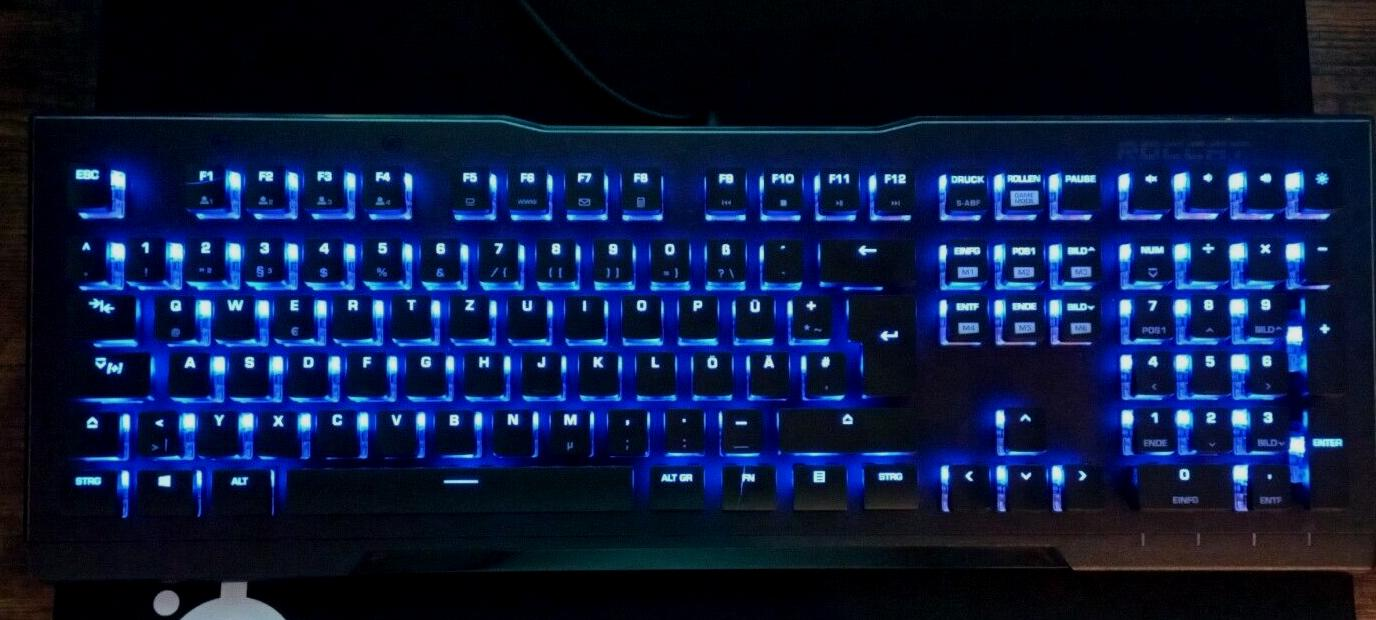0: (645, 233, 688, 280)
1: (121, 231, 164, 280)
2: (181, 233, 224, 280)
3: (239, 232, 285, 282)
4: (299, 232, 344, 280)
5: (358, 232, 404, 281)
6: (416, 231, 462, 281)
7: (474, 233, 518, 282)
8: (531, 233, 577, 283)
9: (588, 233, 632, 282)
a: (164, 345, 208, 395)
accent: (757, 234, 801, 281)
ae: (745, 347, 788, 394)
alt-left: (206, 464, 271, 513)
altgr-right: (644, 460, 704, 507)
b: (431, 404, 476, 453)
c: (313, 405, 359, 454)
caret: (64, 233, 104, 278)
comma: (603, 404, 646, 453)
d: (283, 345, 327, 395)
del: (815, 234, 908, 280)
e: (269, 288, 313, 338)
enter: (843, 287, 913, 397)
f: (343, 346, 385, 395)
g: (401, 346, 445, 394)
h: (460, 346, 504, 395)
hash: (801, 347, 844, 395)
i: (561, 291, 604, 337)
j: (517, 346, 560, 394)
k: (575, 346, 618, 394)
keyboard: (27, 115, 1376, 579)
l: (632, 347, 673, 394)
less: (135, 405, 176, 454)
m: (546, 404, 590, 455)
minus: (717, 404, 760, 450)
n: (488, 404, 534, 453)
o: (617, 290, 660, 337)
oe: (689, 347, 731, 394)
p: (674, 290, 716, 336)
plus: (786, 290, 830, 338)
point: (661, 404, 702, 450)
q: (149, 289, 194, 338)
r: (328, 289, 372, 338)
s: (224, 345, 267, 396)
shift-left: (65, 408, 118, 453)
shift-lock: (70, 347, 149, 394)
shift-right: (774, 404, 917, 449)
space: (276, 462, 635, 513)
ss: (701, 234, 744, 281)
strg-left: (51, 465, 120, 513)
strg-right: (858, 459, 919, 508)
t: (388, 290, 431, 337)
tab: (66, 287, 134, 333)
u: (504, 290, 547, 338)
ue: (730, 290, 773, 337)
v: (371, 404, 418, 454)
w: (211, 289, 253, 339)
x: (253, 405, 299, 453)
y: (193, 405, 238, 454)
z: (446, 290, 488, 337)
